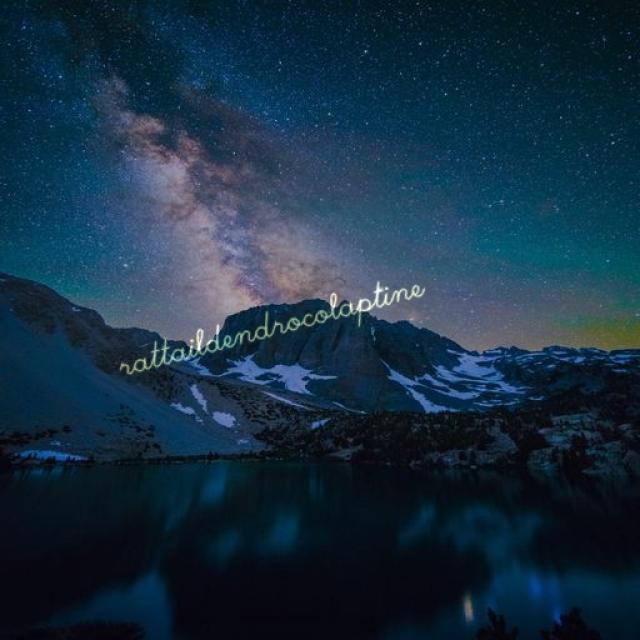watermark: (112, 267, 426, 381)
